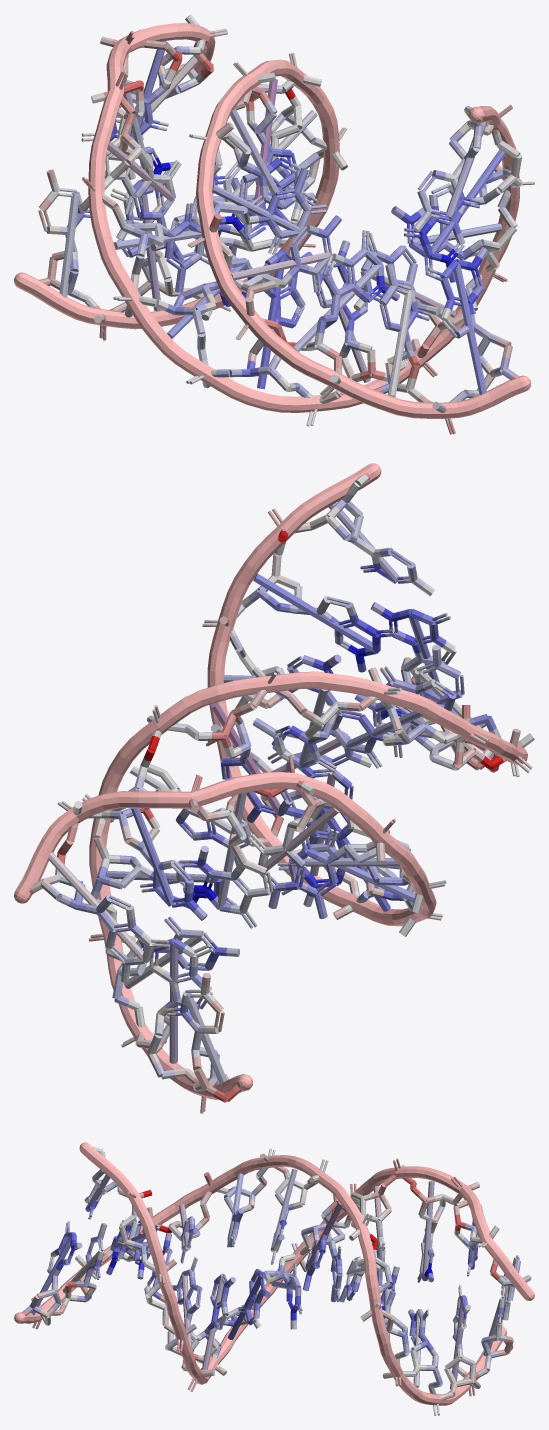
Rendered from 1bna__cartoon-sticks__b-factor.glb.
3 renders of one model, top to bottom at view 1: azimuth 30°, elevation 25°; view 2: azimuth 150°, elevation 25°; view 3: azimuth 270°, elevation 25°, orthographic. The views are drawn at different scales.
Visible parts, largest first — view 1: Renderer Node; view 2: Renderer Node; view 3: Renderer Node.
Part boxes in pixels (x1=…): Renderer Node: x1=14, y1=14, x2=534, y2=434; Renderer Node: x1=14, y1=463, x2=534, y2=1113; Renderer Node: x1=14, y1=1142, x2=534, y2=1415.
Bounding box in the file's own units: 22.6 × 26.67 × 43.47.
